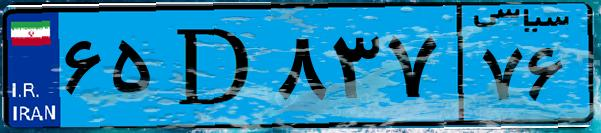3: (330, 28, 385, 110)
5: (110, 28, 158, 98)
6: (57, 26, 110, 100), (525, 38, 570, 115)
7: (385, 28, 445, 110), (475, 38, 525, 113)
8: (270, 28, 330, 110)
D: (158, 12, 270, 120)
